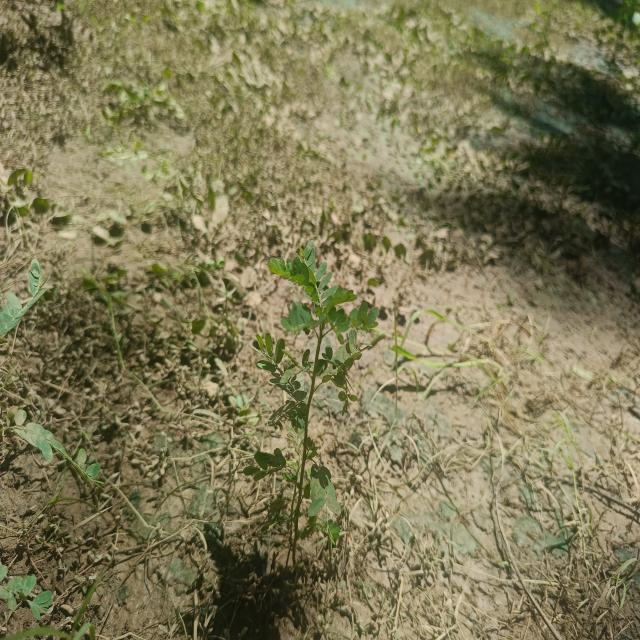weed: (248, 236, 385, 552)
